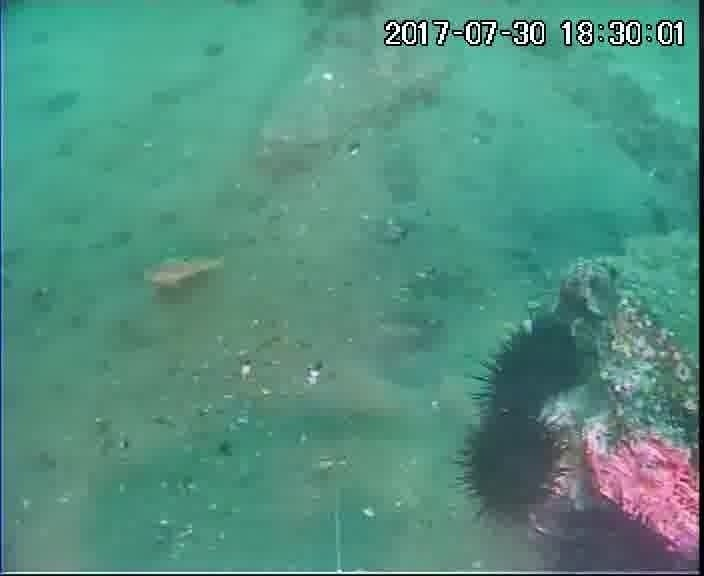echinus: (456, 410, 568, 522), (474, 317, 592, 422), (539, 496, 683, 571)
